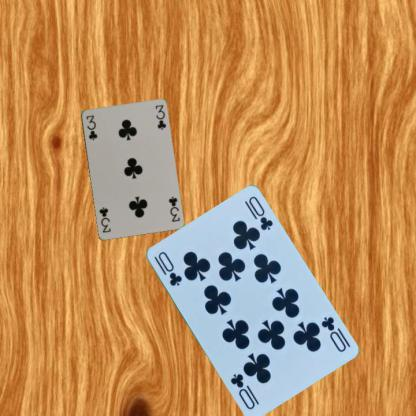10c: (151, 249, 183, 287), (318, 314, 347, 354)
3c: (166, 194, 181, 223), (83, 113, 98, 141)
